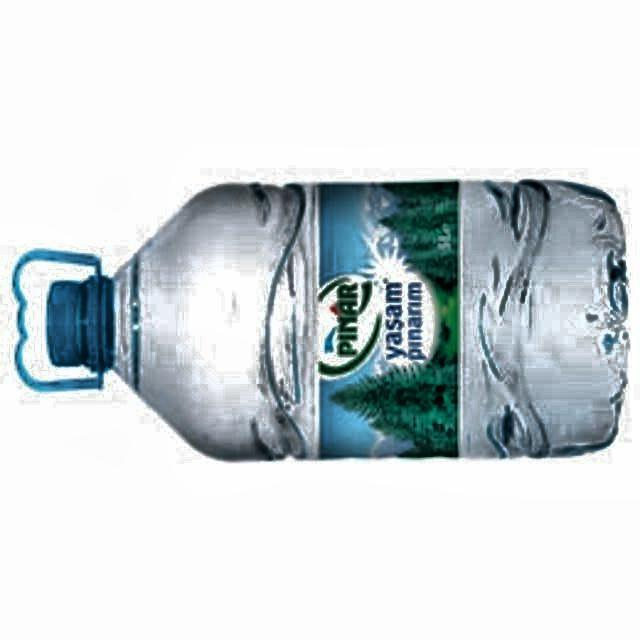plastic: (12, 181, 628, 459)
